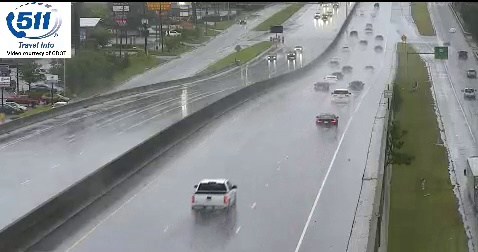car: (193, 179, 237, 212), (316, 114, 337, 129), (332, 89, 350, 104)
